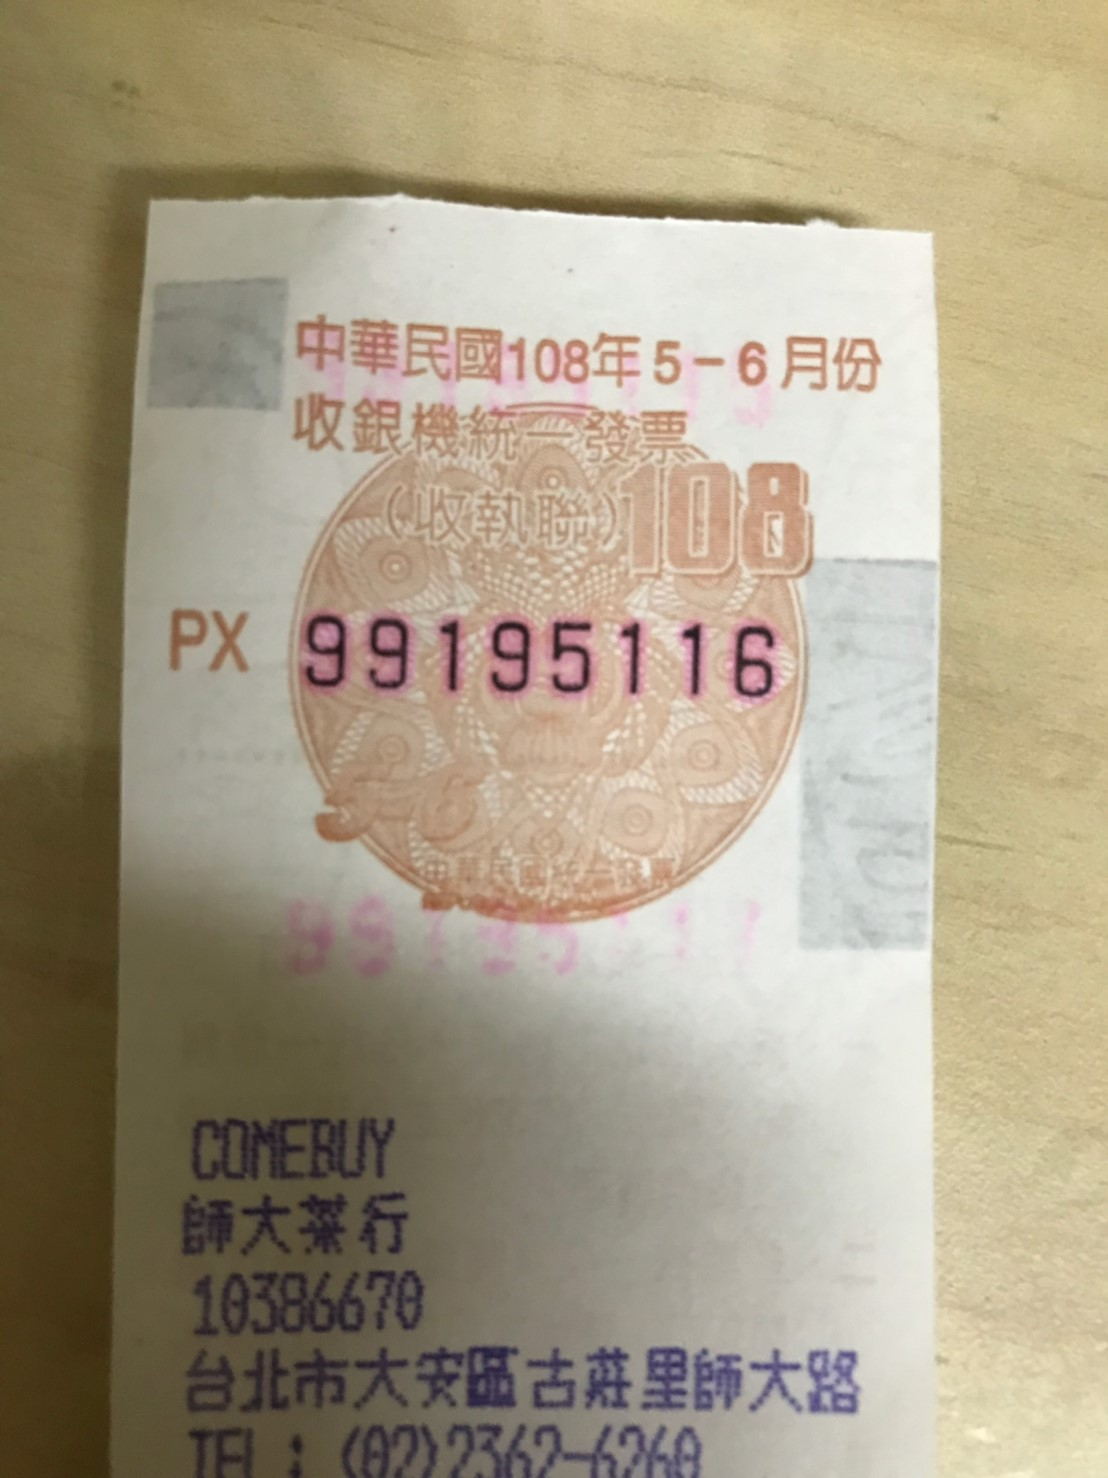Date_Old: (510, 324, 887, 399)
Number_Old: (294, 603, 783, 708)
